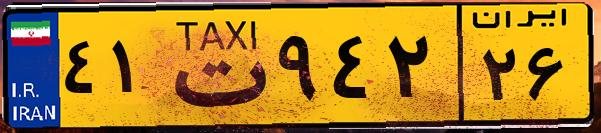1: (110, 28, 158, 98)
2: (385, 28, 445, 110), (475, 38, 525, 113)
4: (330, 28, 385, 110), (57, 26, 110, 100)
6: (525, 38, 570, 115)
9: (270, 28, 330, 110)
ت: (158, 12, 270, 120)
